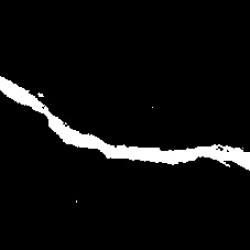crack: (1, 76, 248, 169)
